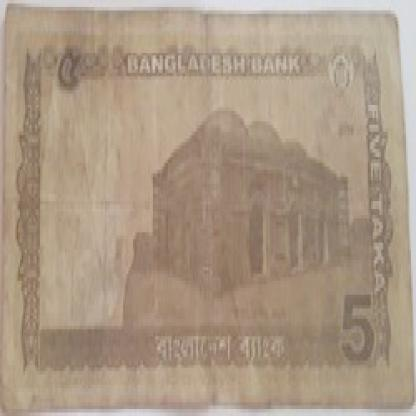Five Taka: (333, 281, 378, 392), (53, 42, 87, 111)
